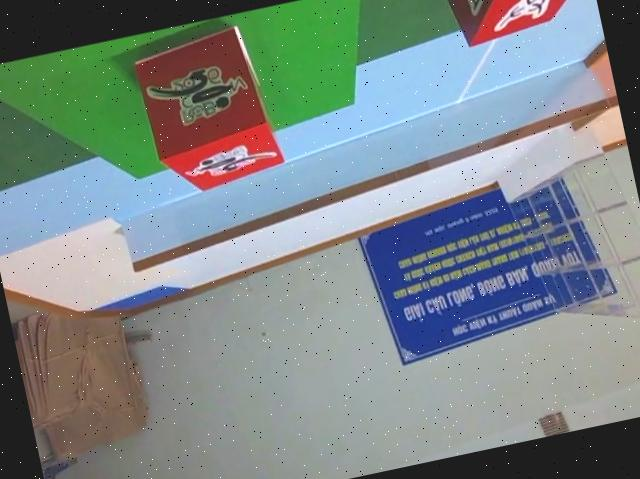R1: (131, 15, 289, 207)
R2 Real: (437, 0, 601, 57)
